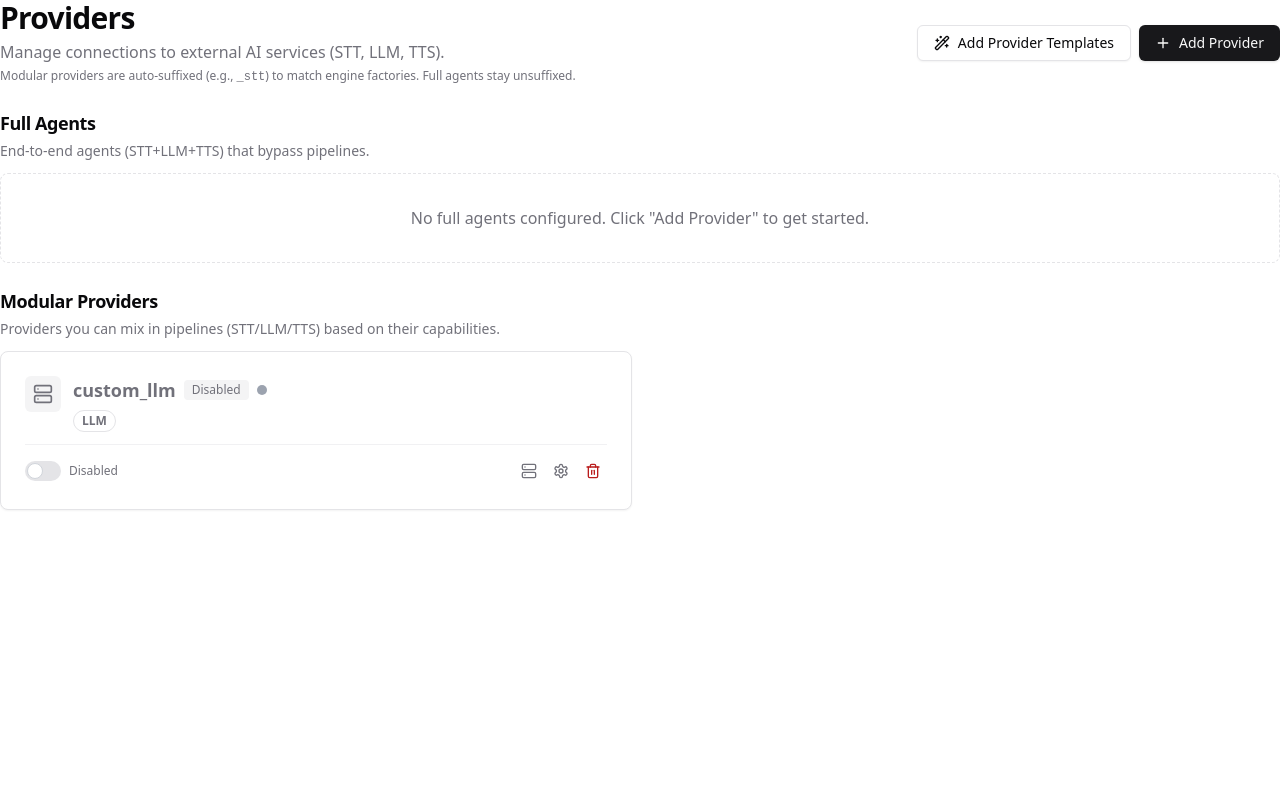
Test: provider connection results › renders structured backend errors as readable messages
Click the button named "Settings for custom_llm" at [561, 471], box left=547, top=457, right=575, bottom=485
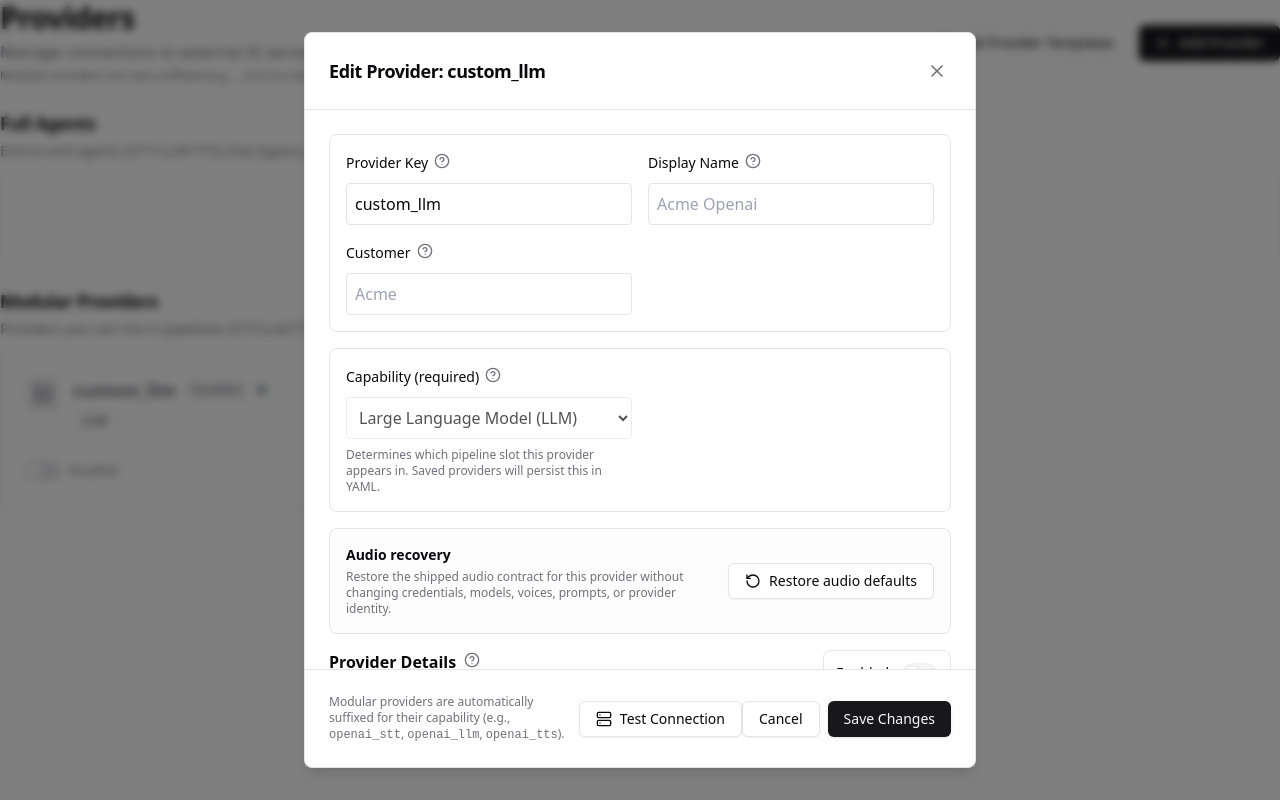
Click the button "Test Connection" at [660, 718], box left=579, top=700, right=742, bottom=736
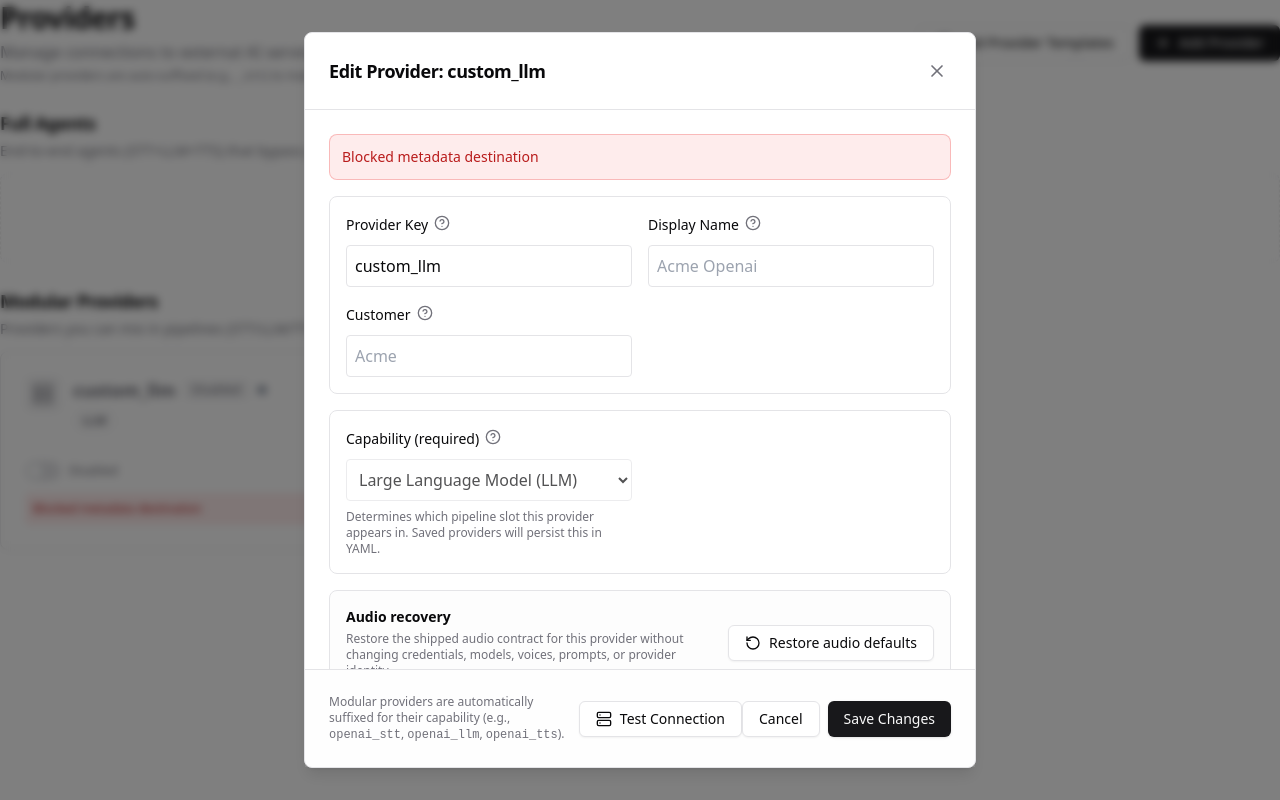
Check: the message reads "Blocked metadata destination", box left=342, top=147, right=539, bottom=166
